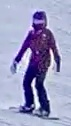snowboarder: (7, 11, 62, 120)
